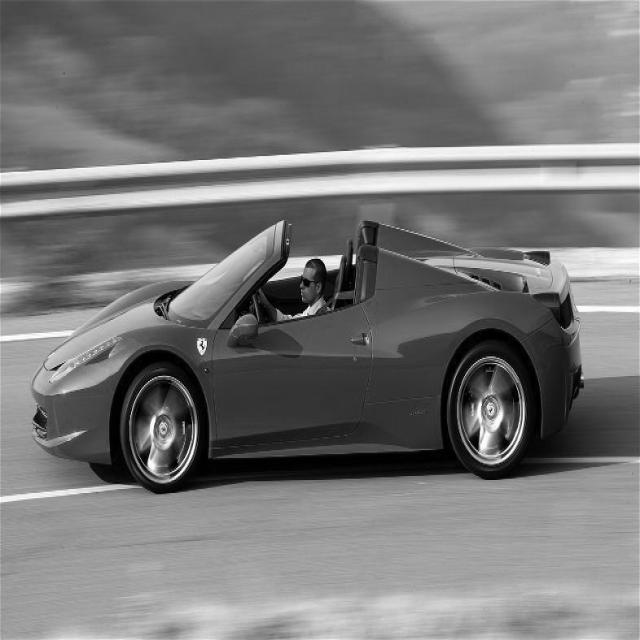car: (29, 217, 585, 493)
